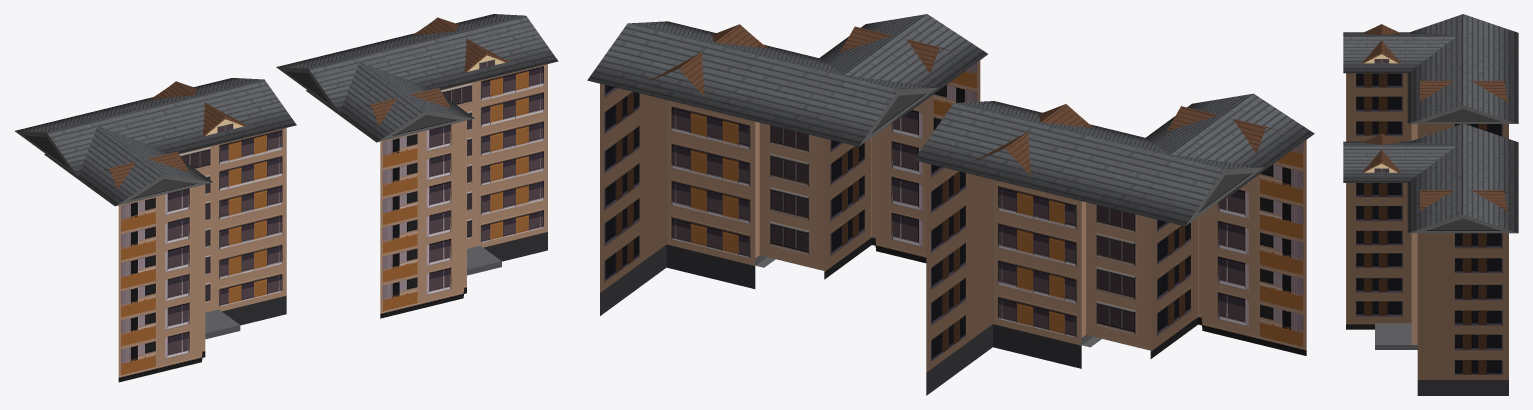
File: Tx_Exterior_Property_LI_FlatT1_20170731.fbx
3 renders of one model, left to right at view 1: azimuth 30°, elevation 25°; view 2: azimuth 150°, elevation 25°; view 3: azimuth 270°, elevation 25°, orthographic. The views are drawn at different scales.
Visible parts, largest first — view 1: polySurface268, polySurface267; view 2: polySurface268, polySurface267; view 3: polySurface267, polySurface268.
Boxes of the visible parts, box(x1,y1,x2,y2) form: polySurface268: box(15, 78, 296, 382); polySurface267: box(276, 14, 558, 318); polySurface268: box(913, 93, 1314, 395); polySurface267: box(587, 14, 987, 315); polySurface267: box(1343, 123, 1518, 395); polySurface268: box(1343, 14, 1518, 141).
Size of the model in its own units: 29.6 by 12.59 by 10.92.
